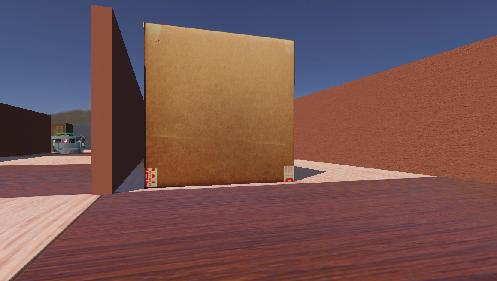CardboardBox: (134, 11, 311, 195)
